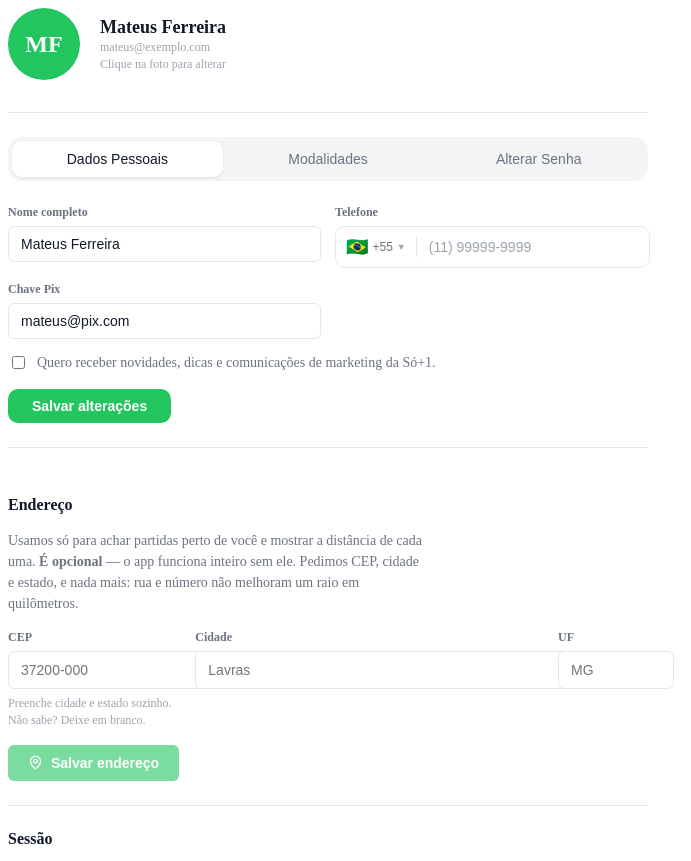
Test: Perfil — a #242 › limpa o erro anterior quando a pessoa tenta de novo e dá certo
Expected: the field showing "mateus@pix.com" below "Chave Pix" is shown, 8,303 -> 321,339
Replace the text in the field with placeholder "Seu nome" below "Nome completo" with "Outro Nome": (164,244) 8,226 -> 321,262
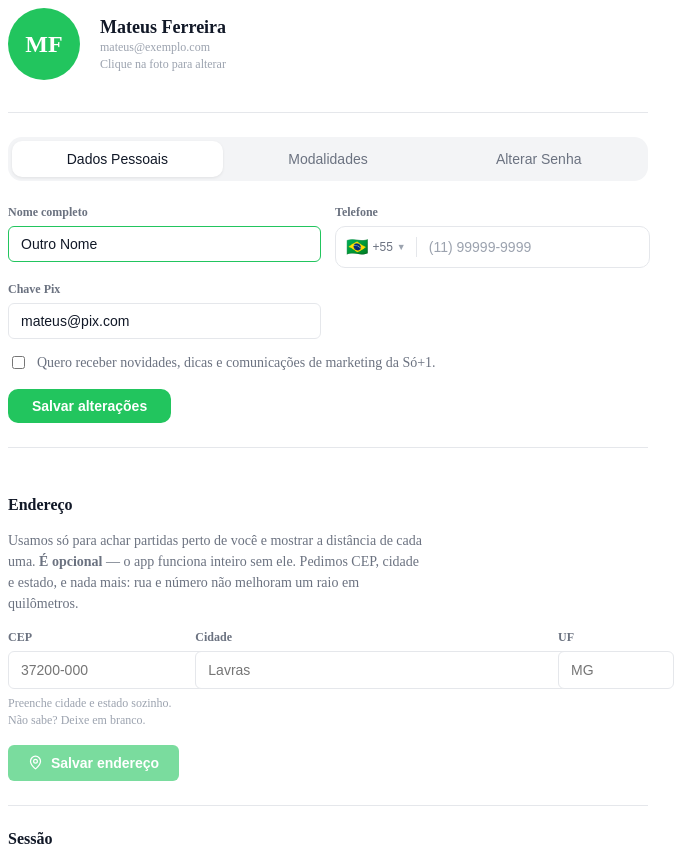
Click the button "Salvar alterações": (90,406) 8,389 -> 171,423
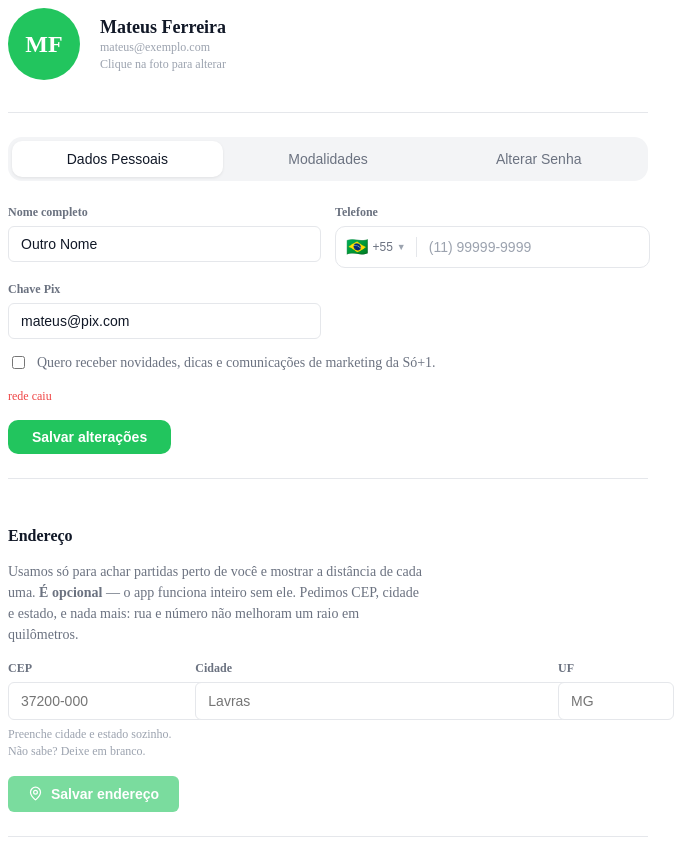
Now the message "rede caiu" is shown, box 8,389 -> 52,403
Erro que sobra na tela depois de dar certo é pior que erro nenhum.
Click the button "Salvar alterações": (90,437) 8,420 -> 171,454
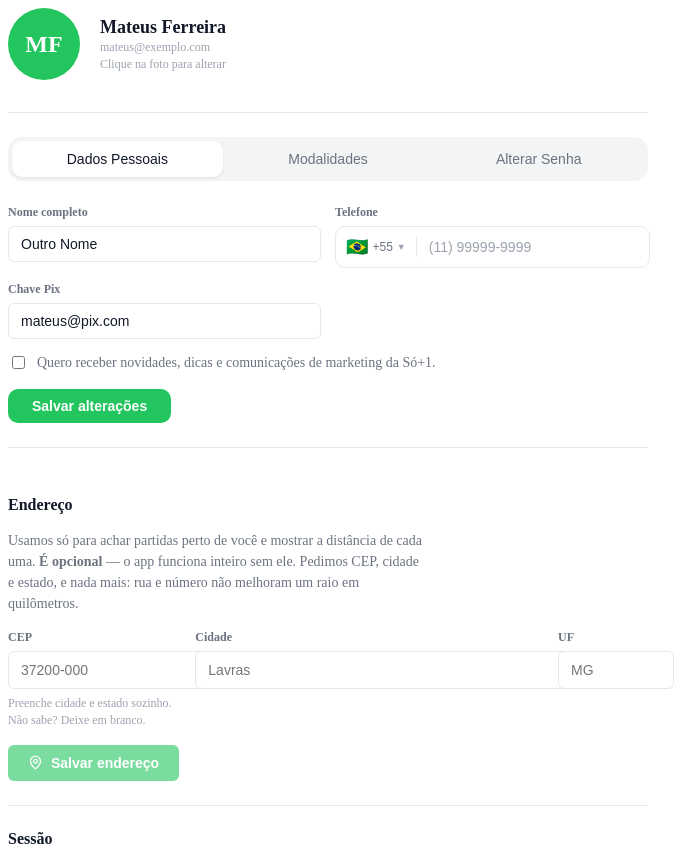
Now the message "rede caiu" is gone
